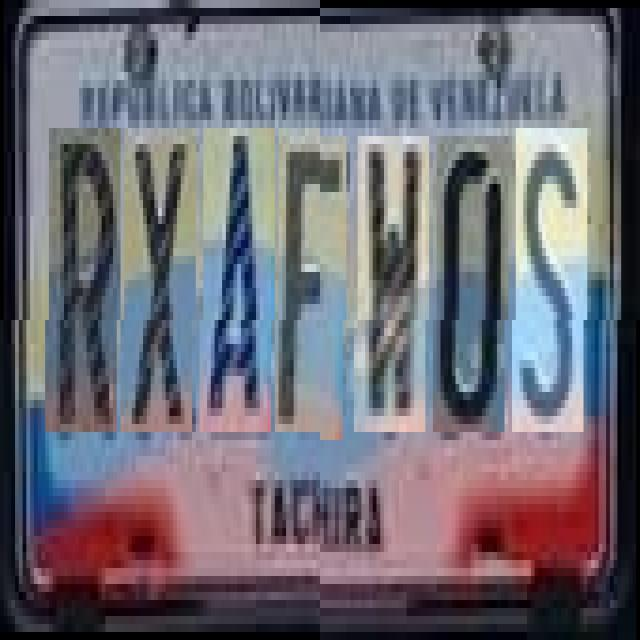0: (436, 136, 508, 432)
A: (203, 136, 275, 440)
F: (278, 136, 346, 440)
R: (48, 136, 120, 440)
S: (516, 128, 588, 432)
W: (358, 136, 430, 432)
X: (124, 136, 196, 440)
